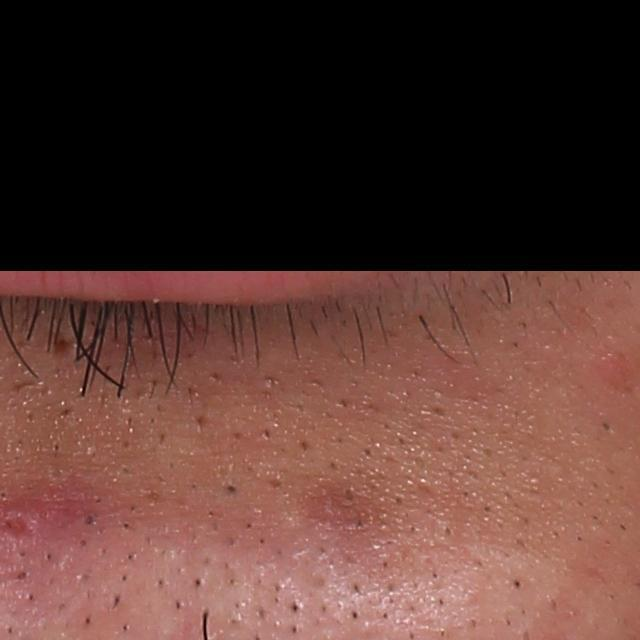comedo: (440, 524, 455, 540)
papule: (587, 349, 634, 392)
